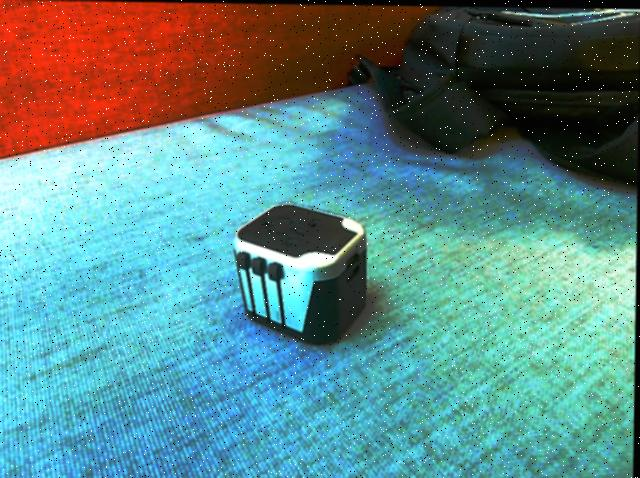adapter: (232, 202, 368, 345)
